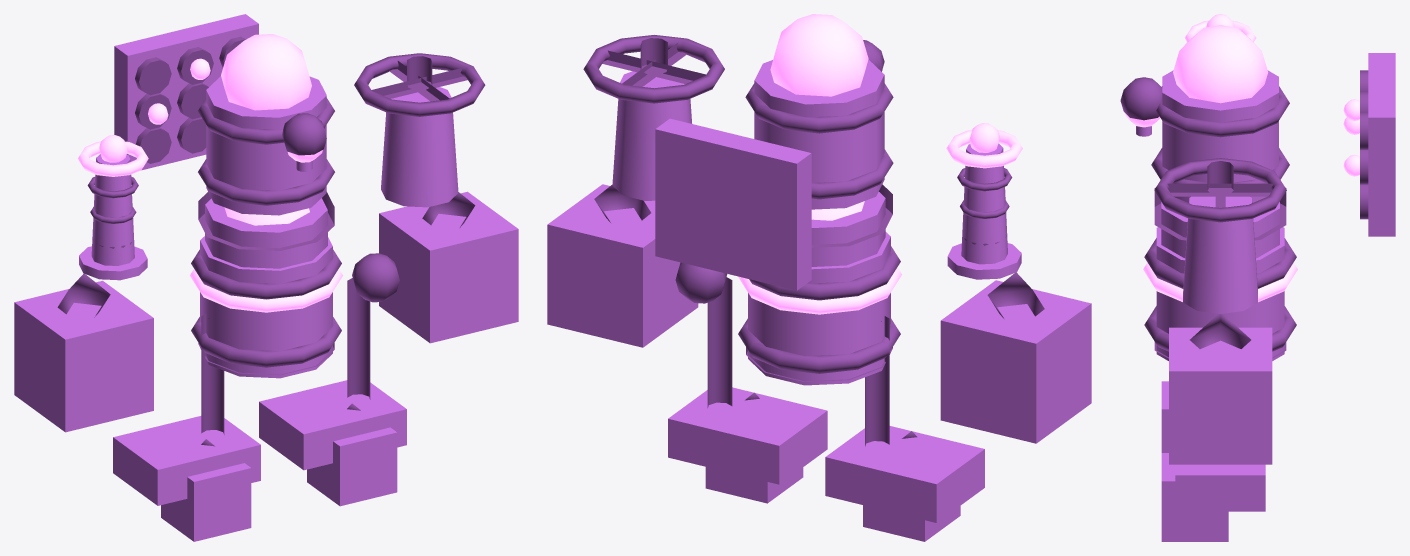
Rendered from golem_121.glb.
3 views of the same model, side by side, from view 1: azimuth 30°, elevation 25°; view 2: azimuth 150°, elevation 25°; view 3: azimuth 270°, elevation 25° (orthographic). The views are drawn at different scales.
Visible parts, largest first — view 1: Body, Detail, Glow; view 2: Body, Detail, Glow; view 3: Body, Detail, Glow.
Boxes of the visible parts, box(x1,y1,x2,y2) form: Body: box(14, 14, 518, 541); Detail: box(57, 36, 485, 446); Glow: box(78, 34, 342, 312); Body: box(547, 59, 1091, 541); Detail: box(583, 35, 1044, 446); Glow: box(738, 14, 1022, 314); Body: box(1136, 53, 1395, 541); Detail: box(1120, 70, 1368, 358); Glow: box(1125, 14, 1359, 302).
Size of the model in its own units: 1.4 by 1.36 by 0.7305.
